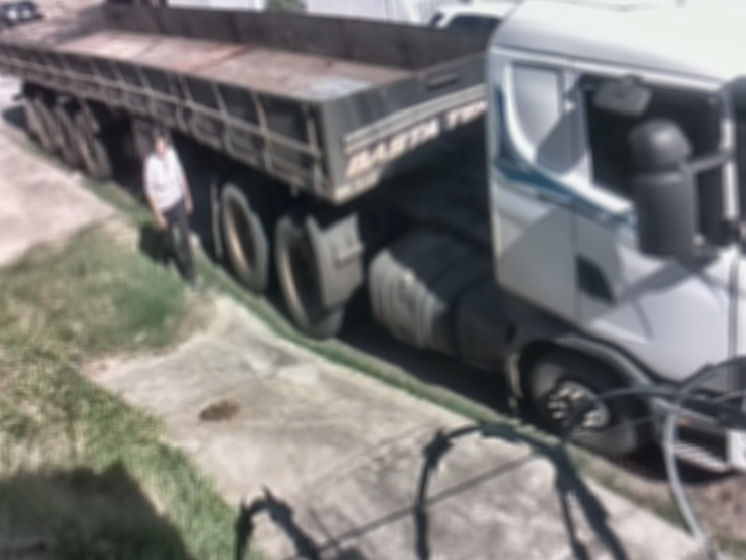person: (142, 128, 200, 295)
